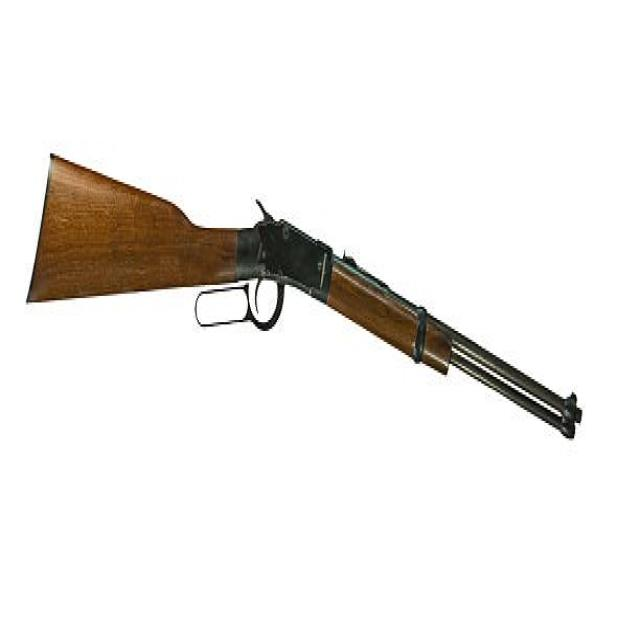rifle: (23, 136, 590, 455)
